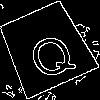Q: (21, 23, 79, 84)
